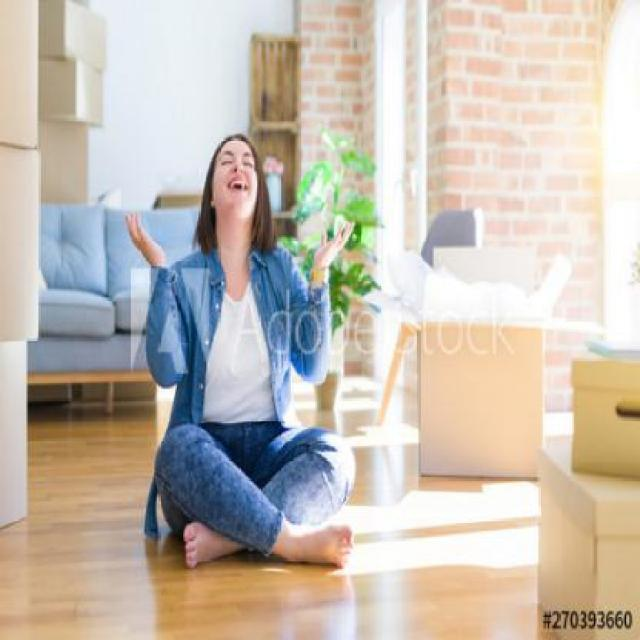box: (401, 257, 568, 481), (541, 442, 639, 640), (569, 358, 640, 477), (0, 143, 40, 344), (0, 0, 45, 151), (30, 59, 108, 130), (32, 0, 107, 72)
